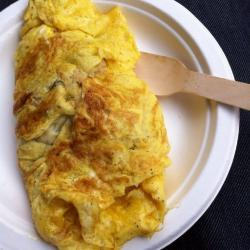omelette: (13, 1, 175, 247)
